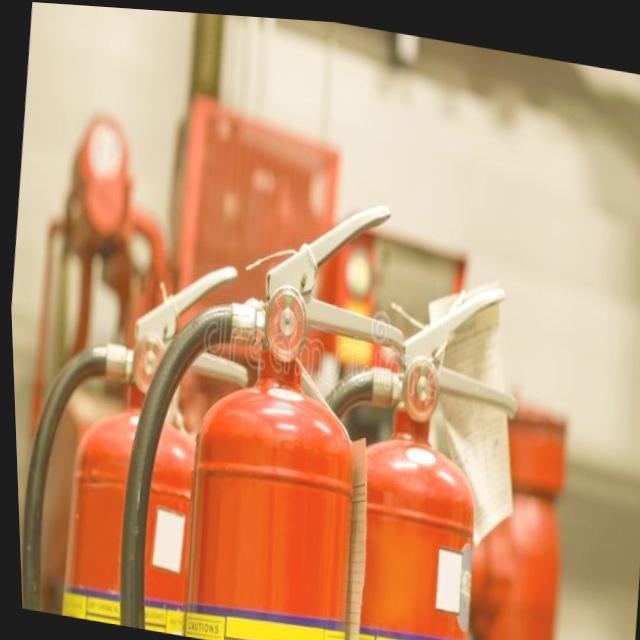FireExtinguisher: (94, 154, 431, 640), (7, 225, 270, 640), (274, 244, 539, 640)
